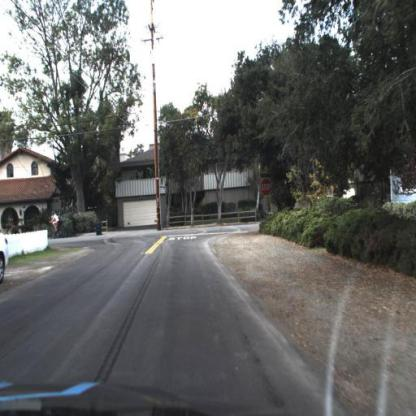biker: (46, 209, 67, 240), (51, 210, 60, 236), (57, 210, 64, 235)
